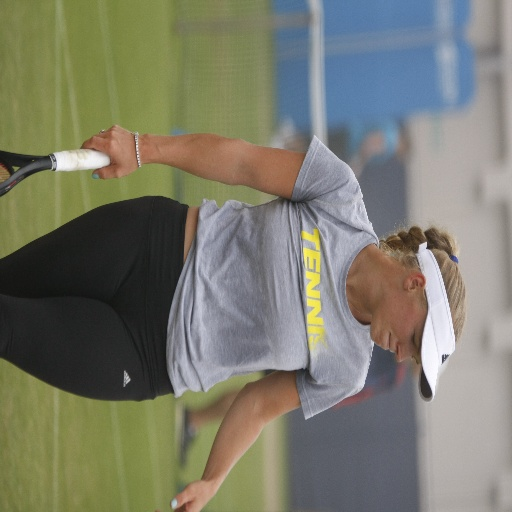hand: (83, 118, 139, 185), (153, 481, 213, 511)
